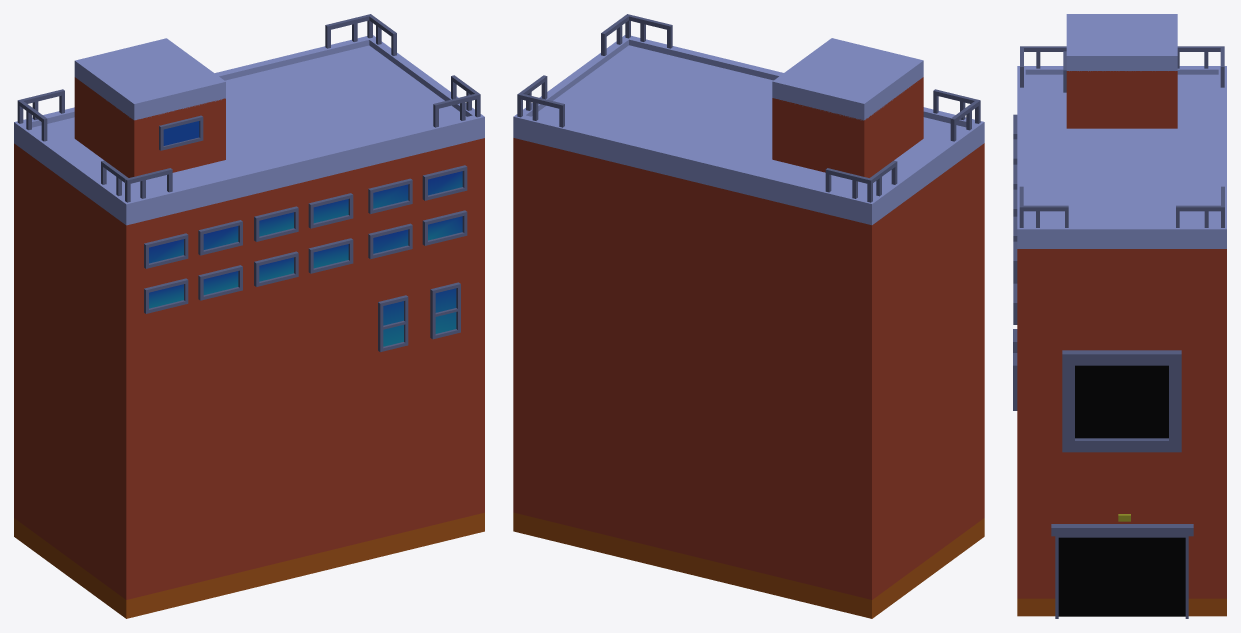
Rendered from Factory_part3.FBX.
The picture shows the model from 3 angles, left to right: view 1: azimuth 30°, elevation 25°; view 2: azimuth 150°, elevation 25°; view 3: azimuth 270°, elevation 25°; orthographic projection. The views are drawn at different scales.
Visible parts, largest first — view 1: Factory_part3; view 2: Factory_part3; view 3: Factory_part3.
Part boxes in pixels (left/top/right/bottom): Factory_part3: left=14, top=14, right=484, bottom=618; Factory_part3: left=513, top=14, right=984, bottom=618; Factory_part3: left=1013, top=14, right=1226, bottom=618.
Bounding box in the file's own units: 205 × 260 × 111.
